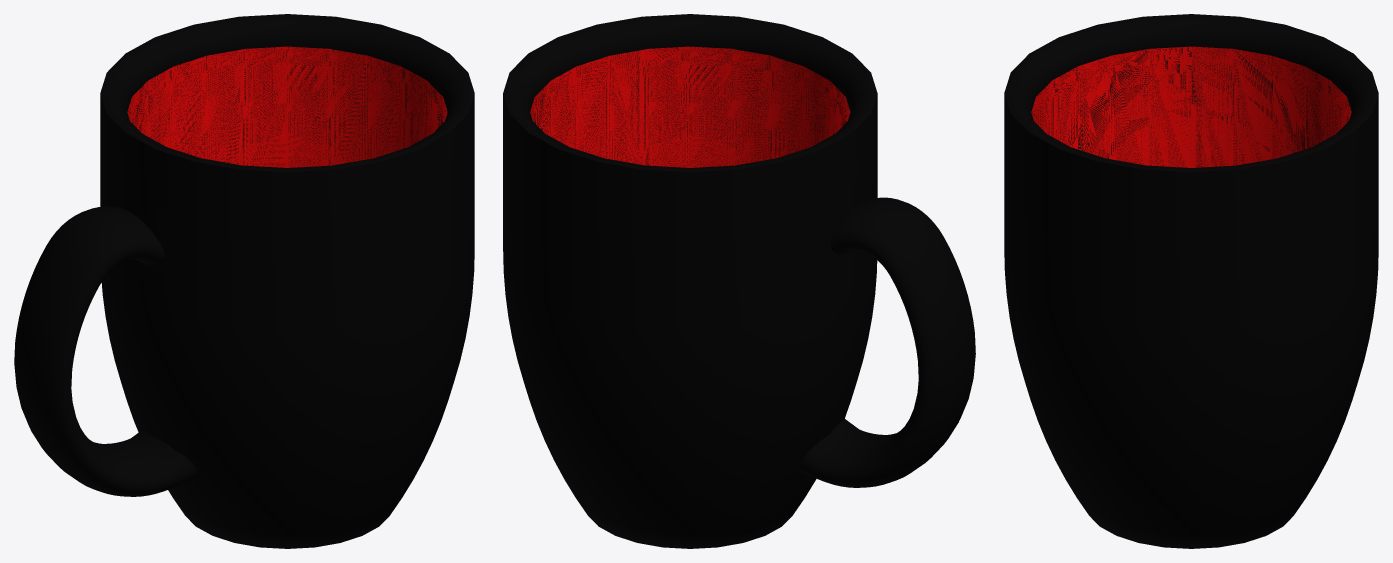
Rendered from mug_17_origin_gt_4.dae.
3 views of the same model, side by side, from view 1: azimuth 30°, elevation 25°; view 2: azimuth 150°, elevation 25°; view 3: azimuth 270°, elevation 25° (orthographic).
Parts seen in each view (by area): view 1: group_0 (×2), group_1; view 2: group_0 (×2), group_1; view 3: group_0 (×2).
Boxes of the visible parts, x1,y1,x2,y2 form: group_0 (×2): [100, 14, 474, 548]; group_1: [14, 206, 196, 496]; group_0 (×2): [503, 14, 877, 548]; group_1: [799, 197, 975, 487]; group_0 (×2): [1004, 14, 1378, 548].
Bounding box in the file's own units: 4.12 × 3.11 × 3.77.
